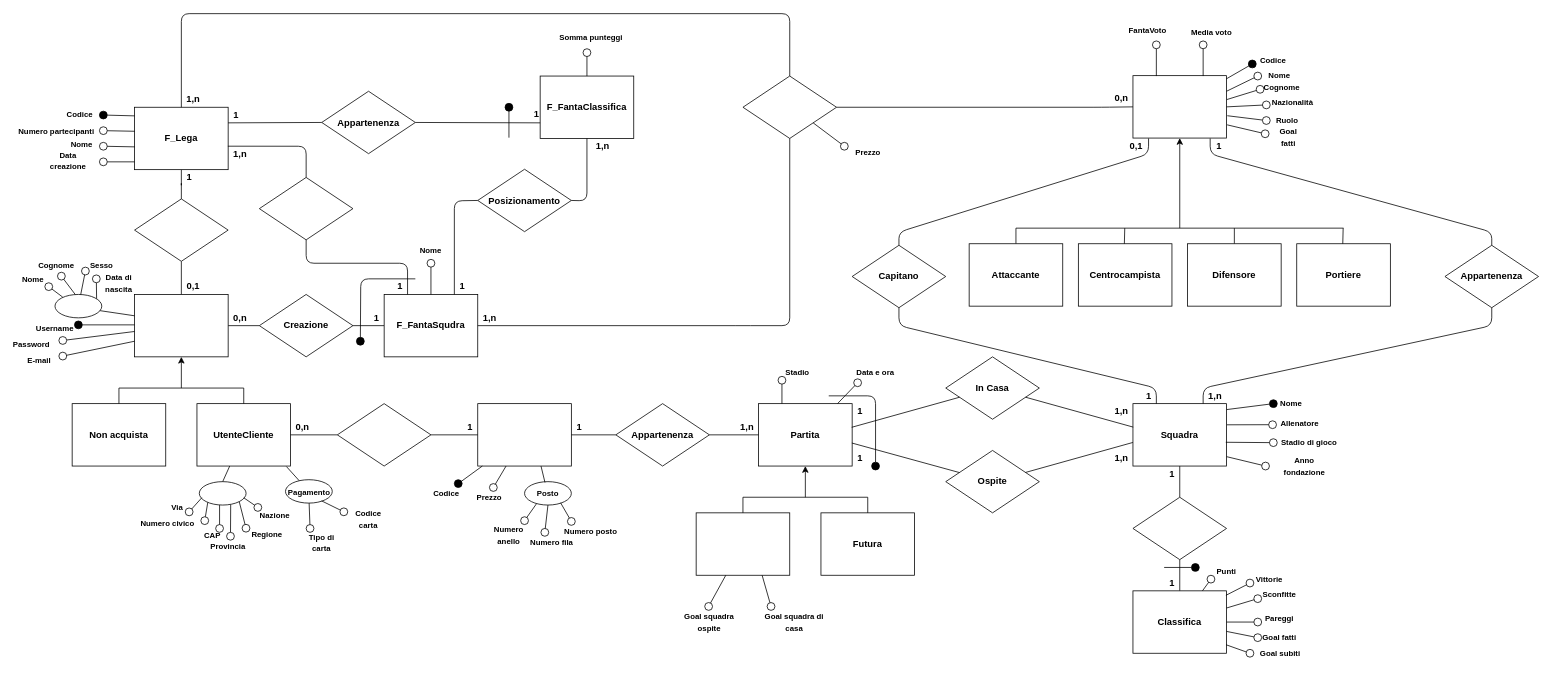
Some shapes in this 1552 by 679 pixel diagram are drawn without their labels. Here are the shapes that lost their labels. From the top down, the centre of each, then its label:
At [789,106]: "F_Asta".
At [1179,106]: "Giocatore".
At [306,208]: "Composizione".
At [181,229]: "Gestione".
At [78,306]: "Nominativo".
At [181,325]: "Utente".
At [384,434]: "Acquisto".
At [524,434]: "Biglietto".
At [222,493]: "Indirizzo".
At [742,543]: "Passata".
At [1179,528]: "Posizione".
